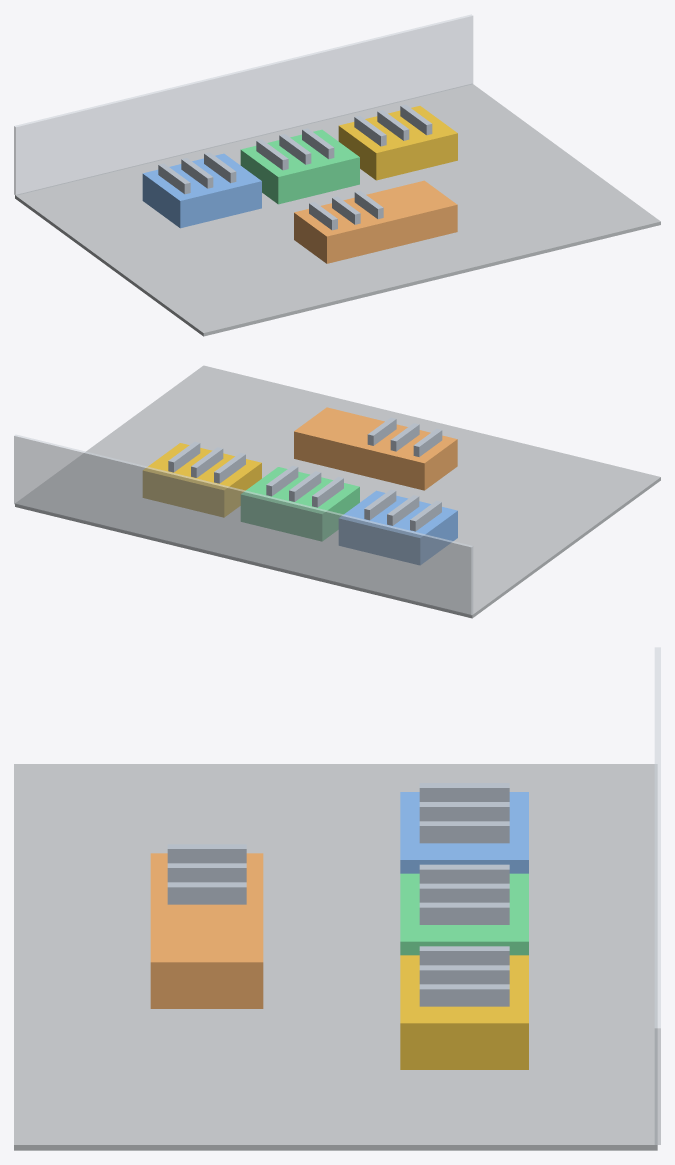
Rendered from warehouse-main.glb.
3 renders of one model, top to bottom at view 1: azimuth 30°, elevation 25°; view 2: azimuth 150°, elevation 25°; view 3: azimuth 270°, elevation 25°, orthographic. The views are drawn at different scales.
Visible parts, largest first — view 1: Floor, Wall_Back, Zone_Q, Zone_A, Zone_C, Zone_B, Zone_A_Rack_1, Zone_C_Rack_3, Zone_B_Rack_2, Zone_B_Rack_3, Zone_C_Rack_1, Zone_A_Rack_3 (+3 smaller); view 2: Floor, Wall_Back, Zone_Q, Zone_A, Zone_B, Zone_C, Zone_B_Rack_3, Zone_C_Rack_3, Zone_A_Rack_2, Zone_A_Rack_3, Zone_B_Rack_2, Zone_C_Rack_2 (+6 smaller); view 3: Floor, Zone_Q, Zone_C, Zone_B, Zone_A, Wall_Back, Zone_C_Rack_3, Zone_A_Rack_3, Zone_B_Rack_3, Zone_Q_Rack_3, Zone_A_Rack_2, Zone_B_Rack_1 (+6 smaller).
Part boxes in pixels (x1,y1,x2,y2): Floor: [15, 83, 660, 336]; Wall_Back: [14, 14, 473, 195]; Zone_Q: [294, 180, 457, 263]; Zone_A: [142, 153, 261, 228]; Zone_C: [338, 106, 457, 180]; Zone_B: [240, 129, 359, 204]; Zone_A_Rack_1: [158, 163, 190, 194]; Zone_C_Rack_3: [400, 104, 432, 135]; Zone_B_Rack_2: [279, 134, 311, 164]; Zone_B_Rack_3: [302, 128, 334, 159]; Zone_C_Rack_1: [354, 115, 386, 146]; Zone_A_Rack_3: [204, 152, 236, 183]; Floor: [15, 365, 660, 618]; Wall_Back: [14, 434, 473, 615]; Zone_Q: [294, 407, 457, 490]; Zone_A: [338, 490, 457, 565]; Zone_B: [240, 467, 359, 541]; Zone_C: [142, 443, 261, 517]; Zone_B_Rack_3: [266, 465, 298, 496]; Zone_C_Rack_3: [168, 441, 200, 472]; Zone_A_Rack_2: [387, 495, 419, 525]; Zone_A_Rack_3: [364, 489, 396, 520]; Zone_B_Rack_2: [289, 471, 321, 501]; Zone_C_Rack_2: [191, 447, 223, 477]; Floor: [14, 764, 657, 1150]; Zone_Q: [150, 853, 263, 1008]; Zone_C: [400, 955, 528, 1069]; Zone_B: [400, 873, 528, 955]; Zone_A: [400, 792, 528, 873]; Wall_Back: [654, 647, 660, 1144]; Zone_C_Rack_3: [419, 984, 509, 1006]; Zone_A_Rack_3: [419, 821, 509, 843]; Zone_B_Rack_3: [419, 902, 509, 924]; Zone_Q_Rack_3: [167, 882, 246, 904]; Zone_A_Rack_2: [419, 802, 509, 821]; Zone_B_Rack_1: [419, 864, 509, 883].
Bounding box in the file's own units: 28 × 4.2 × 20.1.
